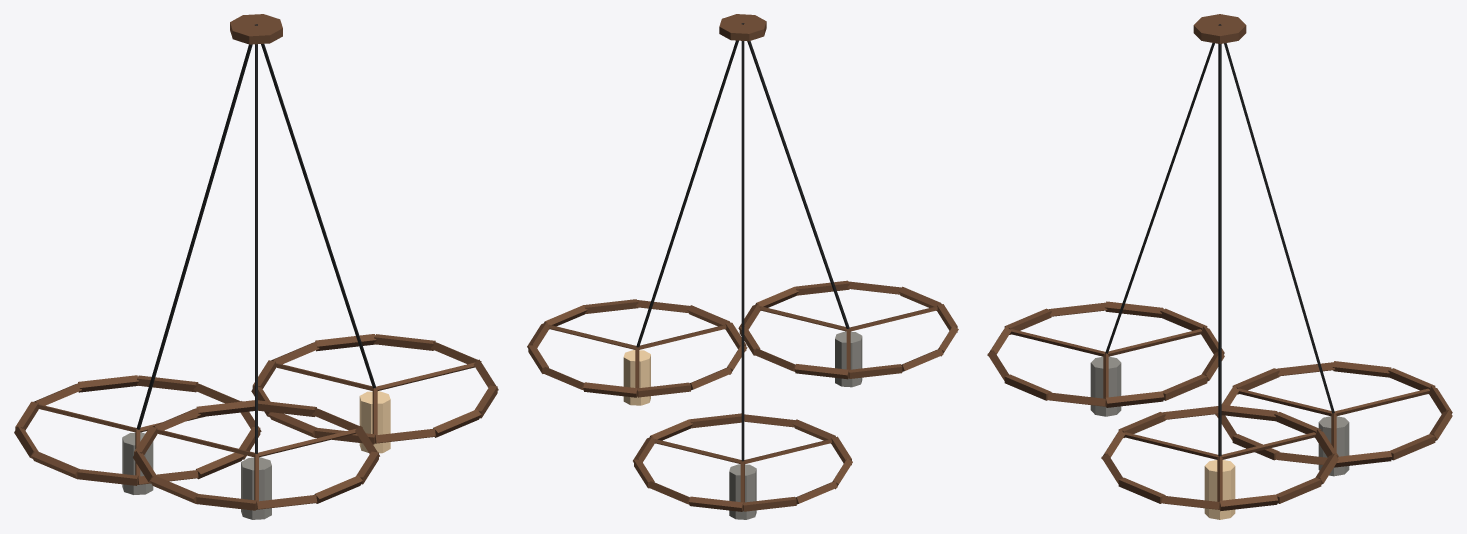
File: chandelier.fbx
3 renders of one model, left to right at view 1: azimuth 30°, elevation 25°; view 2: azimuth 150°, elevation 25°; view 3: azimuth 270°, elevation 25°, orthographic. The views are drawn at different scales.
Visible parts, largest first — view 1: chandelier; view 2: chandelier; view 3: chandelier.
Part boxes in pixels (bbox=[...]): chandelier: bbox=[14, 14, 498, 519]; chandelier: bbox=[527, 14, 958, 519]; chandelier: bbox=[987, 14, 1452, 519].
Bounding box in the file's own units: 0.9924 × 1.19 × 1.06.
